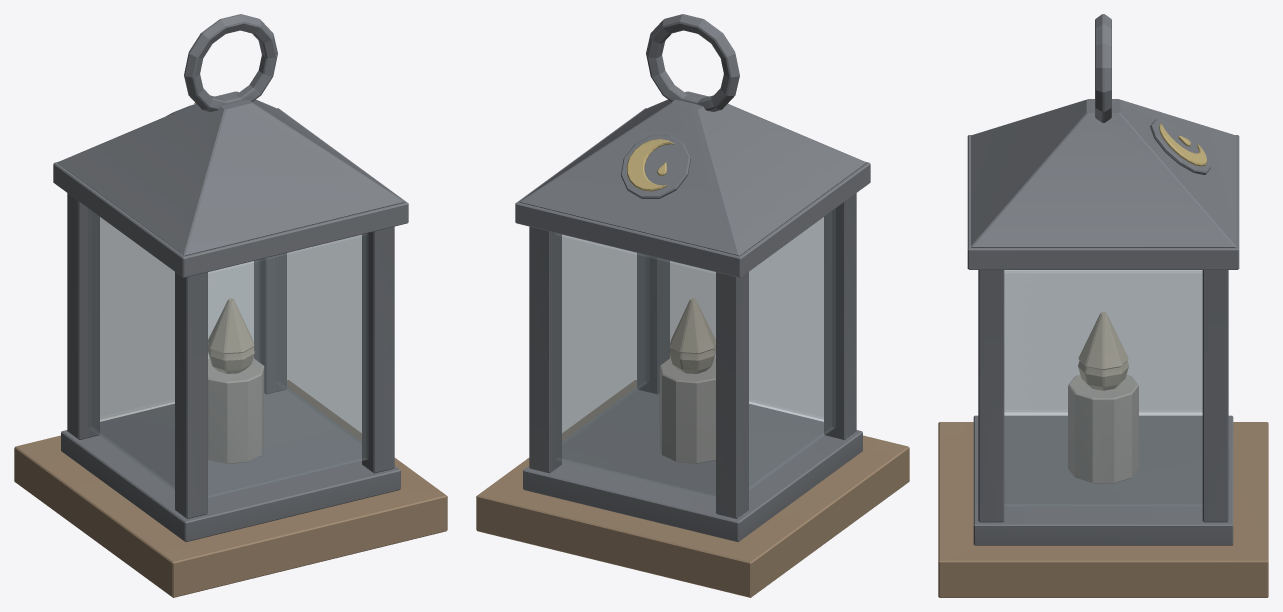
File: furniture_choseung_lantern.glb
The picture shows the model from 3 angles, left to right: view 1: azimuth 30°, elevation 25°; view 2: azimuth 150°, elevation 25°; view 3: azimuth 270°, elevation 25°; orthographic projection. The views are drawn at different scales.
Parts seen in each view (by area): view 1: furniture.choseung_lantern; view 2: furniture.choseung_lantern; view 3: furniture.choseung_lantern.
Part boxes in pixels (x1=…): furniture.choseung_lantern: x1=14, y1=14, x2=447, y2=597; furniture.choseung_lantern: x1=476, y1=14, x2=909, y2=597; furniture.choseung_lantern: x1=938, y1=14, x2=1268, y2=597.
Bounding box in the file's own units: 0.28 × 0.4762 × 0.28.
